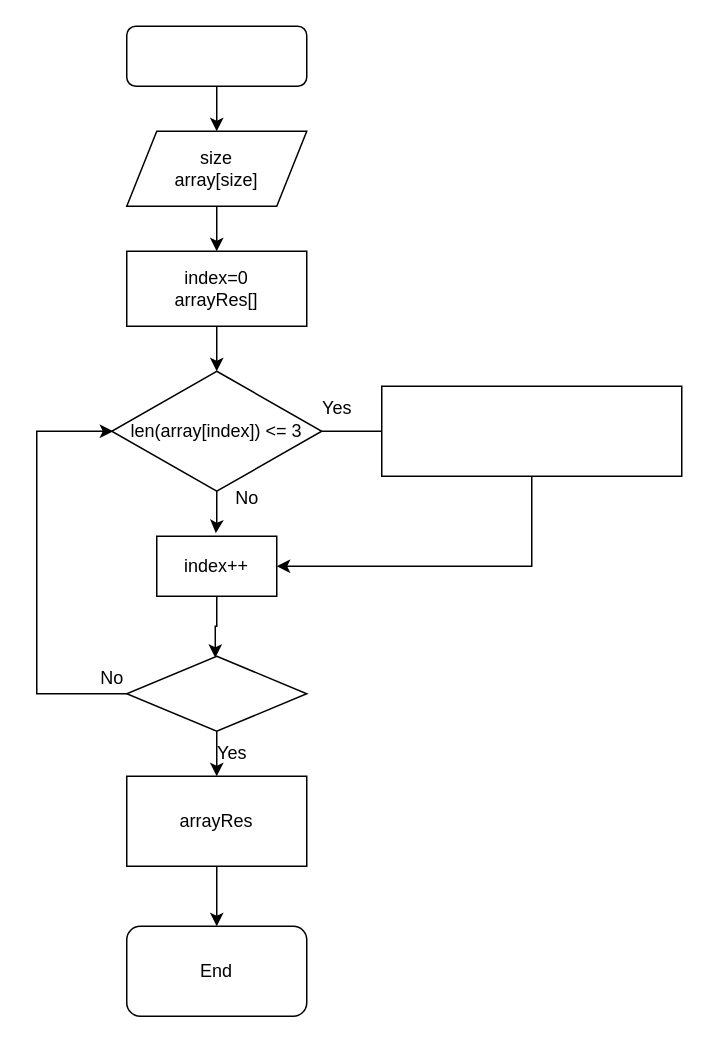
This 708x1043 diagram has some shape labels left out. Each missing label, with the centre of its shape:
arrayRes.append(array[index]): (531,430)
index > size: (216,693)
Start: (216,55)
